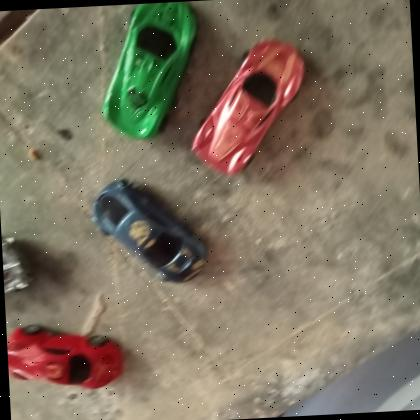Car: (183, 35, 314, 178), (97, 0, 206, 144), (88, 172, 212, 290), (6, 320, 129, 394)
